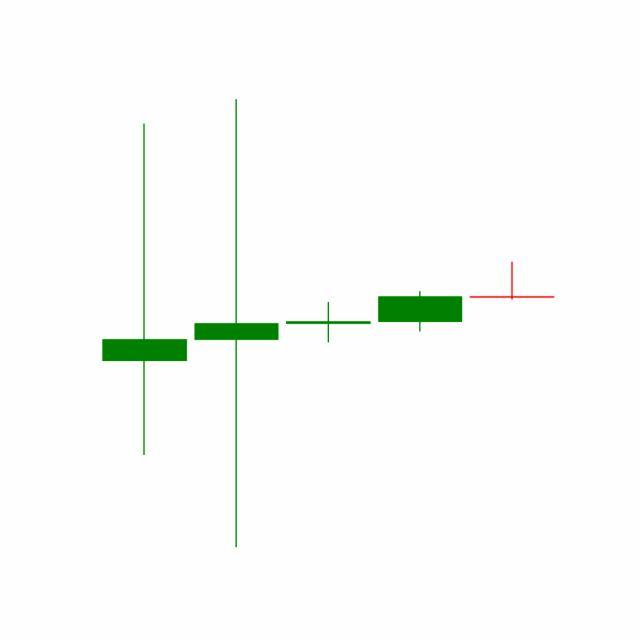Marubozu: (374, 291, 468, 333)
